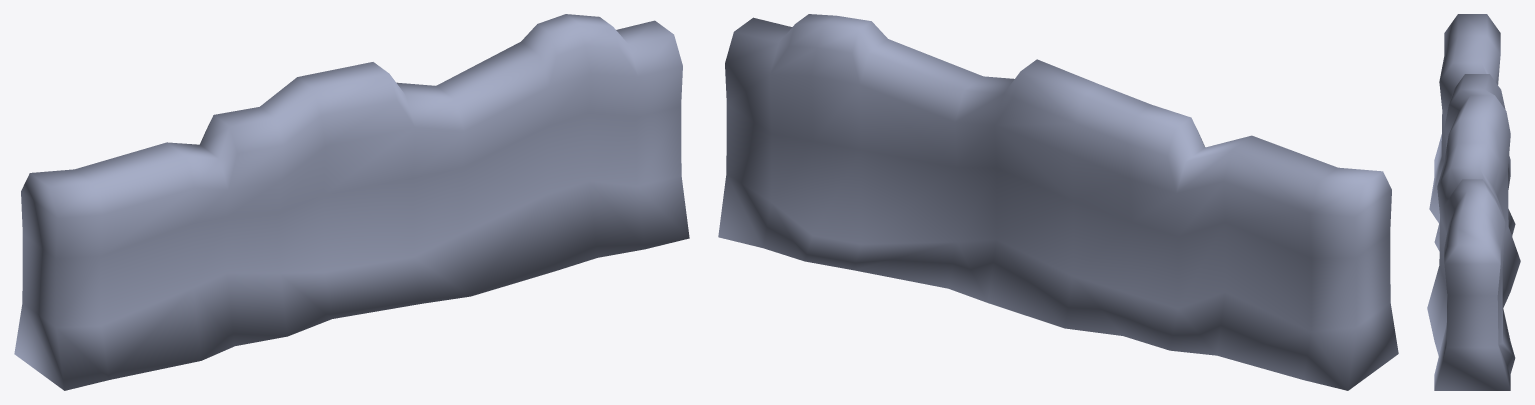
Rendered from wall_2.fbx.
3 renders of one model, left to right at view 1: azimuth 30°, elevation 25°; view 2: azimuth 150°, elevation 25°; view 3: azimuth 270°, elevation 25°, orthographic. The views are drawn at different scales.
Visible parts, largest first — view 1: wall_2; view 2: wall_2; view 3: wall_2.
Boxes of the visible parts, box(x1,y1,x2,y2) form: wall_2: box(14, 14, 689, 390); wall_2: box(718, 14, 1398, 390); wall_2: box(1427, 14, 1520, 390).
Size of the model in its own units: 400 by 135 by 68.51.
